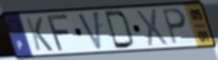D: (103, 10, 137, 50)
F: (46, 13, 72, 54)
K: (24, 16, 55, 53)
P: (160, 7, 188, 46)
V: (76, 10, 103, 53)
X: (135, 8, 171, 48)
